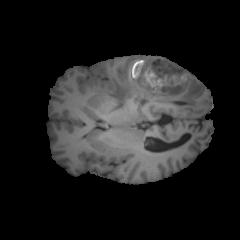glioma: (108, 56, 202, 111)
